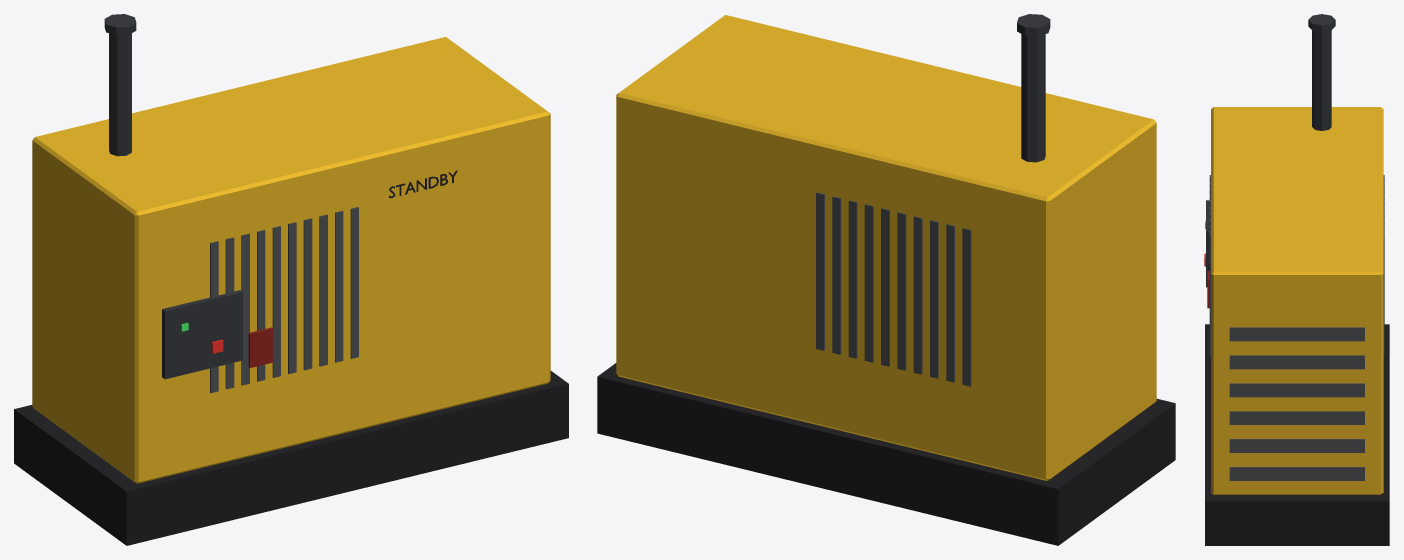
Rendered from dc.generator.glb.
3 views of the same model, side by side, from view 1: azimuth 30°, elevation 25°; view 2: azimuth 150°, elevation 25°; view 3: azimuth 270°, elevation 25° (orthographic). The views are drawn at different scales.
Visible parts, largest first — view 1: canopy, tank, panel, exhaust, louvre16, louvre17, louvre19, louvre15, louvre18, louvre14, louvre12, louvre13 (+3 smaller); view 2: canopy, tank, exhaust, louvre-10, louvre-13, louvre-18, louvre-14, louvre-16, louvre-17, louvre-15, louvre-11, louvre-12 (+1 smaller); view 3: canopy, tank, rad3, rad4, rad5, exhaust, rad0, rad1, rad2, exhaust-cap, panel, louvre-19 (+1 smaller).
Part boxes in pixels (x1,y1,x2,y2): canopy: [32, 37, 550, 483]; tank: [14, 371, 568, 545]; panel: [162, 290, 242, 379]; exhaust: [109, 33, 131, 156]; louvre16: [303, 218, 312, 370]; louvre17: [319, 214, 327, 366]; louvre19: [350, 207, 358, 358]; louvre15: [288, 222, 296, 373]; louvre18: [335, 210, 343, 362]; louvre14: [272, 226, 280, 377]; louvre12: [241, 233, 249, 385]; louvre13: [257, 229, 265, 381]; canopy: [616, 15, 1156, 480]; tank: [597, 363, 1175, 545]; exhaust: [1021, 34, 1045, 162]; louvre-10: [962, 228, 971, 386]; louvre-13: [913, 216, 922, 374]; louvre-18: [832, 196, 841, 354]; louvre-14: [897, 212, 906, 370]; louvre-16: [864, 204, 873, 362]; louvre-17: [848, 200, 857, 358]; louvre-15: [881, 208, 889, 366]; louvre-11: [946, 224, 954, 382]; louvre-12: [930, 220, 938, 378]; canopy: [1211, 107, 1383, 494]; tank: [1205, 324, 1389, 545]; rad3: [1229, 383, 1364, 397]; rad4: [1229, 355, 1364, 369]; rad5: [1229, 327, 1364, 341]; exhaust: [1312, 30, 1331, 130]; rad0: [1229, 467, 1364, 480]; rad1: [1229, 439, 1364, 452]; rad2: [1229, 411, 1364, 424]; exhaust-cap: [1308, 14, 1335, 31]; panel: [1206, 200, 1209, 287]; louvre-19: [1383, 231, 1384, 356].
Size of the model in its own units: 3.4 by 3.36 by 1.51.
